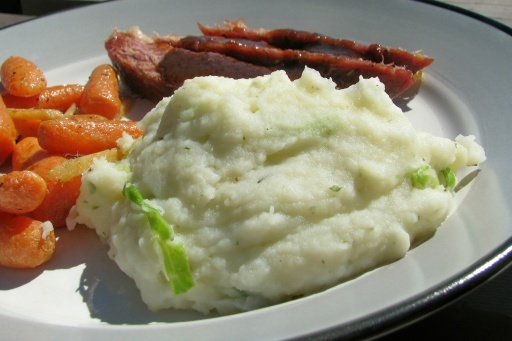background: (0, 9, 390, 167)
